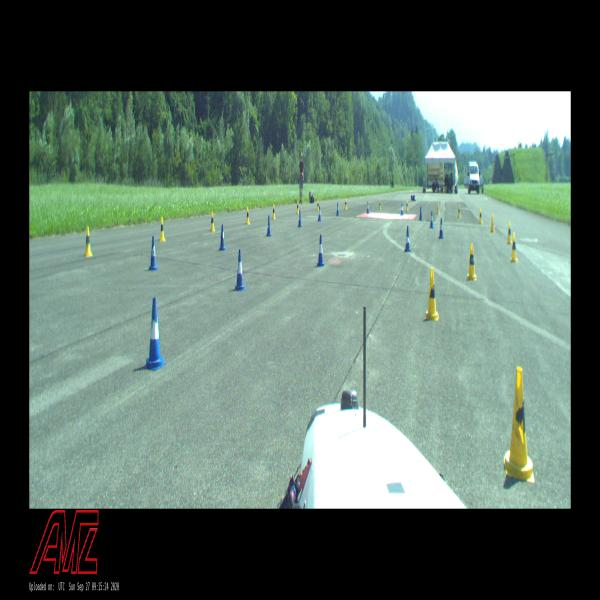blue_cone: (145, 298, 166, 370), (233, 249, 246, 291), (149, 236, 158, 271), (316, 235, 326, 266), (404, 226, 411, 252), (219, 224, 226, 250), (438, 218, 444, 239), (266, 215, 272, 236), (297, 210, 302, 227), (430, 211, 433, 228), (318, 206, 321, 221), (366, 201, 369, 214), (336, 203, 339, 216), (419, 207, 422, 220), (401, 204, 403, 215)
yellow_cone: (503, 367, 534, 483), (425, 269, 439, 321), (467, 244, 477, 280), (510, 233, 518, 262), (84, 227, 91, 257), (159, 216, 166, 241), (507, 222, 512, 244), (210, 211, 215, 231), (490, 215, 495, 232), (478, 208, 483, 224), (246, 208, 250, 224), (272, 204, 276, 219), (296, 201, 300, 213), (457, 206, 461, 217), (344, 199, 348, 209), (316, 200, 320, 210), (378, 199, 381, 210), (436, 203, 439, 214), (406, 200, 408, 211)
